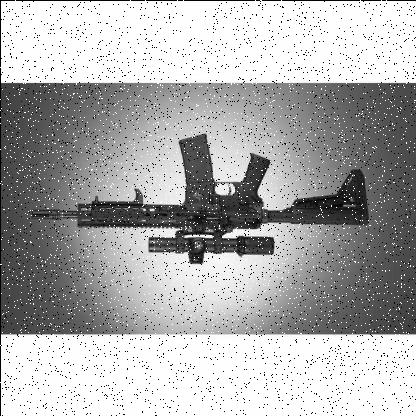rifle: (13, 120, 373, 270)
